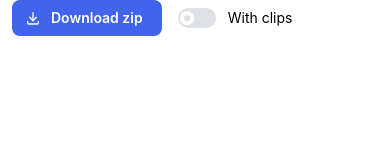
DownloadButton › says how many comments are still processing on a 202 and does not navigate
Click the link with test id "admin-download": (87,18) [12,0,162,36]
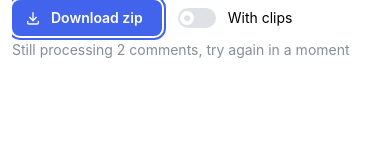
Check: the text "Still processing 2 comments, try again in a moment" is shown, box [12,41,350,58]
